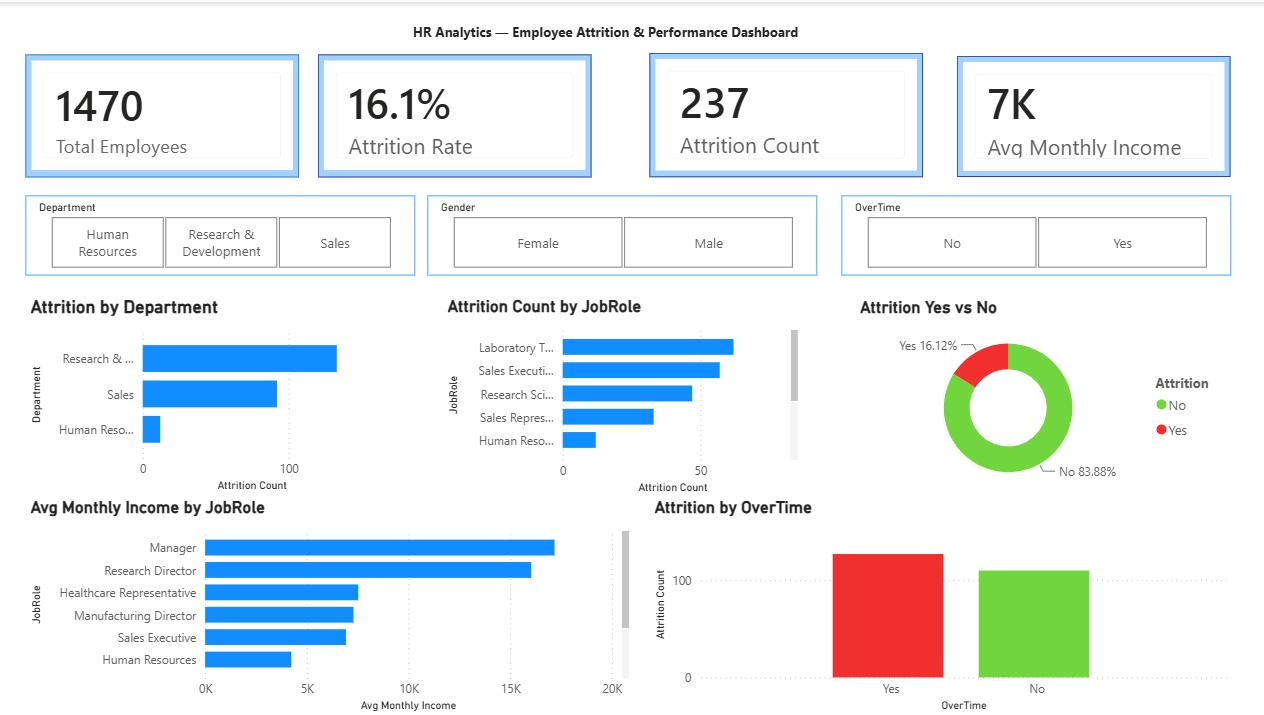

What the dashboard file says about the page in this screenshot:
{"tool":"powerbi","page":{"name":"Page 1","canvas":[1280,720],"ordinal":0},"visuals":[{"type":"textbox","box":[411.8,14.7,407.4,36.8],"z":0},{"type":"cardVisual","fields":{"Data":["HR_Project_Power BI.Total Employees"]},"box":[25.4,52.4,276.2,123.8],"z":1000},{"type":"cardVisual","fields":{"Data":["HR_Project_Power BI.Attrition Count"]},"box":[655.6,50.8,276.2,125.4],"z":2000},{"type":"cardVisual","fields":{"Data":["HR_Project_Power BI.Attrition Rate"]},"box":[320.6,52.4,276.2,123.8],"z":3000},{"type":"cardVisual","fields":{"Data":["HR_Project_Power BI.Avg Monthly Income"]},"box":[966.7,54,276.2,122.2],"z":4000},{"type":"clusteredBarChart","title":"Attrition by Department","fields":{"Category":["HR_Project_Power BI.Department"],"Y":["HR_Project_Power BI.Attrition Count"]},"box":[25.4,296.8,354,201.6],"z":5000},{"type":"clusteredBarChart","fields":{"Category":["HR_Project_Power BI.JobRole"],"Y":["HR_Project_Power BI.Attrition Count"]},"box":[446,296.8,363.5,203.2],"z":6000},{"type":"donutChart","title":"Attrition Yes vs No","fields":{"Category":["HR_Project_Power BI.Attrition"],"Y":["HR_Project_Power BI.Total Employees"]},"box":[863.5,298.4,379.4,201.6],"z":7000},{"type":"clusteredBarChart","fields":{"Category":["HR_Project_Power BI.JobRole"],"Y":["HR_Project_Power BI.Avg Monthly Income"]},"box":[25,500,614.6,220.8],"z":8000},{"type":"clusteredColumnChart","title":"Attrition  by OverTime","fields":{"Category":["HR_Project_Power BI.OverTime"],"Y":["HR_Project_Power BI.Attrition Count"]},"box":[656.2,500,587.5,220.8],"z":9000},{"type":"slicer","fields":{"Values":["Department_Lookup.Department"]},"box":[25.4,195.2,393.7,81],"z":10000},{"type":"slicer","fields":{"Values":["HR_Project_Power BI.Gender"]},"box":[431.7,195.2,393.7,81],"z":10001},{"type":"slicer","fields":{"Values":["HR_Project_Power BI.OverTime"]},"box":[849.2,195.2,393.7,81],"z":10002}]}

Visuals, with their boxes in screenshot pixels (x1, y1, x2, y2), scaled from the page's 1280x720 canvas onto the 1264x715 screenshot:
textbox: box(407, 15, 809, 51)
cardVisual - HR_Project_Power BI.Total Employees: box(25, 52, 298, 175)
cardVisual - HR_Project_Power BI.Attrition Count: box(647, 50, 920, 175)
cardVisual - HR_Project_Power BI.Attrition Rate: box(317, 52, 589, 175)
cardVisual - HR_Project_Power BI.Avg Monthly Income: box(955, 54, 1227, 175)
"Attrition by Department" clusteredBarChart: box(25, 295, 375, 495)
clusteredBarChart - HR_Project_Power BI.JobRole x HR_Project_Power BI.Attrition Count: box(440, 295, 799, 497)
"Attrition Yes vs No" donutChart: box(853, 296, 1227, 497)
clusteredBarChart - HR_Project_Power BI.JobRole x HR_Project_Power BI.Avg Monthly Income: box(25, 497, 632, 714)
"Attrition  by OverTime" clusteredColumnChart: box(648, 497, 1228, 714)
slicer - Department_Lookup.Department: box(25, 194, 414, 274)
slicer - HR_Project_Power BI.Gender: box(426, 194, 815, 274)
slicer - HR_Project_Power BI.OverTime: box(839, 194, 1227, 274)
